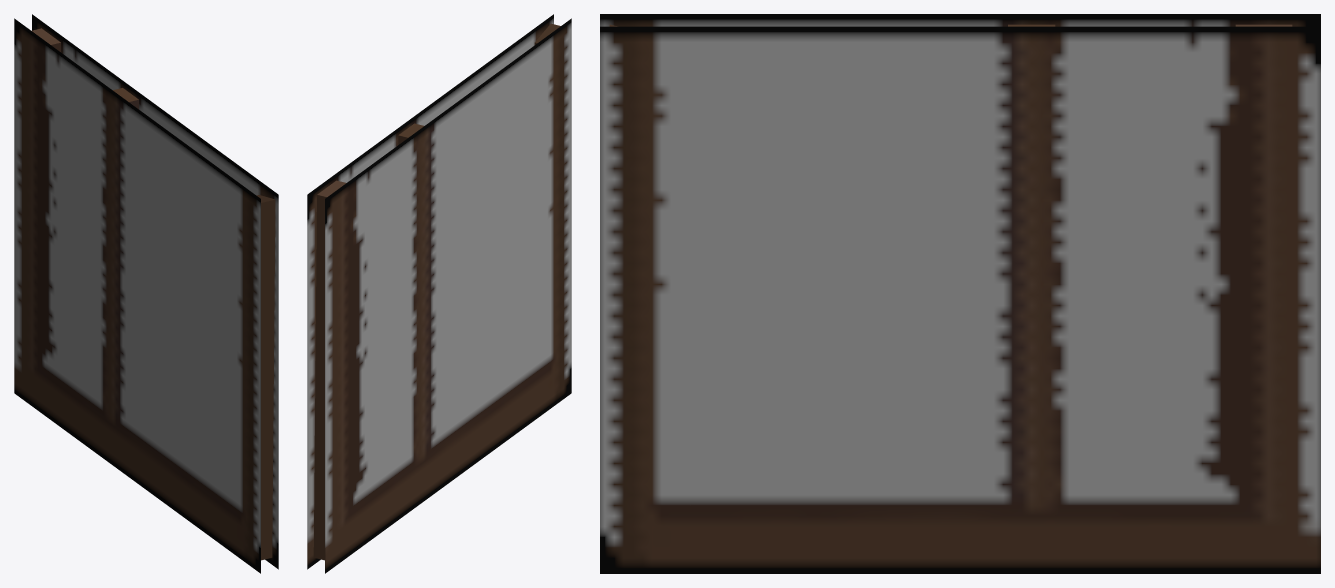
The model's file is pz_native_location_hospitality_sunstarmotel_01_65_frame.obj.
3 views of the same model, side by side, from view 1: azimuth 30°, elevation 25°; view 2: azimuth 150°, elevation 25°; view 3: azimuth 270°, elevation 25° (orthographic). The views are drawn at different scales.
Parts seen in each view (by area): view 1: pz_native_location_hospitality_sunstarmotel_01_65_frame; view 2: pz_native_location_hospitality_sunstarmotel_01_65_frame; view 3: pz_native_location_hospitality_sunstarmotel_01_65_frame.
Boxes of the visible parts, bbox=[...] form: pz_native_location_hospitality_sunstarmotel_01_65_frame: bbox=[14, 14, 278, 573]; pz_native_location_hospitality_sunstarmotel_01_65_frame: bbox=[307, 14, 571, 573]; pz_native_location_hospitality_sunstarmotel_01_65_frame: bbox=[600, 14, 1320, 573].
Size of the model in its own units: 0.04 by 0.8125 by 0.9696.
Materials: 1 (1 with a texture image).
